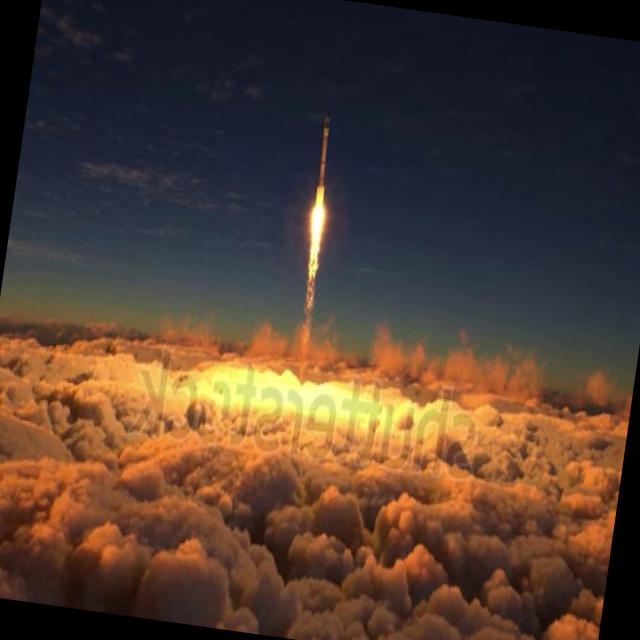rocket: (284, 110, 347, 363)
